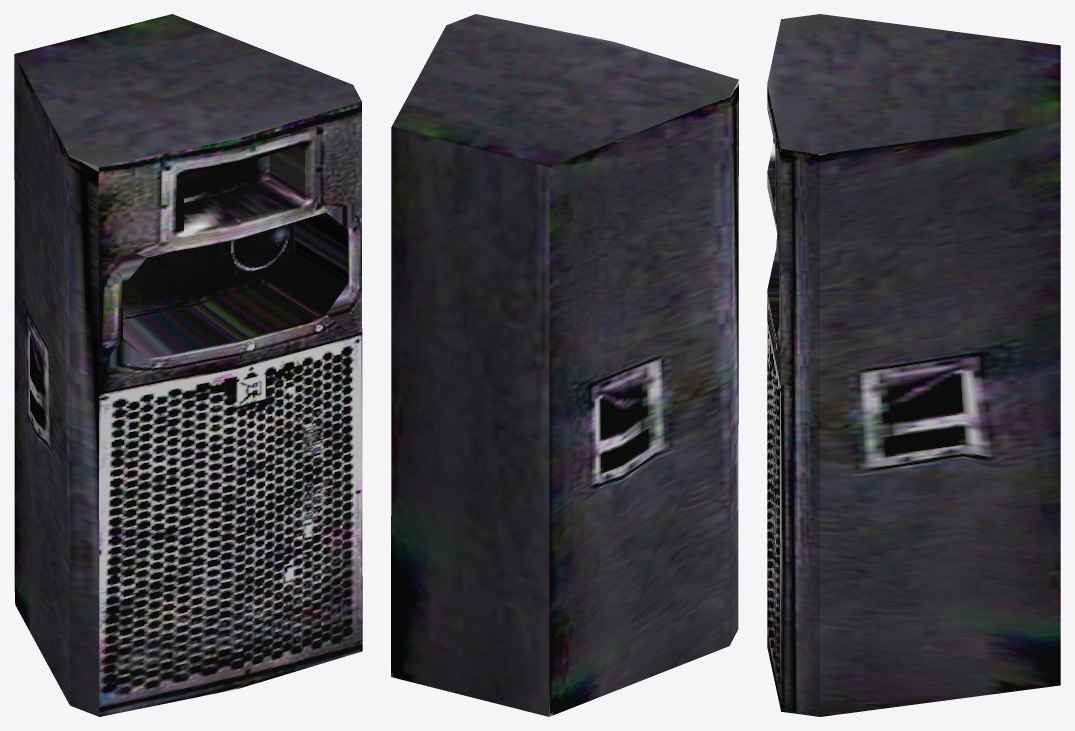
Rendered from SM_BoomBox_00.fbx.
3 renders of one model, left to right at view 1: azimuth 30°, elevation 25°; view 2: azimuth 150°, elevation 25°; view 3: azimuth 270°, elevation 25°, orthographic. The views are drawn at different scales.
Parts seen in each view (by area): view 1: SM_BoomBox_00; view 2: SM_BoomBox_00; view 3: SM_BoomBox_00.
Boxes of the visible parts, x1,y1,x2,y2 form: SM_BoomBox_00: (14,14,362,716); SM_BoomBox_00: (391,14,738,716); SM_BoomBox_00: (767,14,1060,716).
Bounding box in the file's own units: 76.48 × 142 × 66.79.
